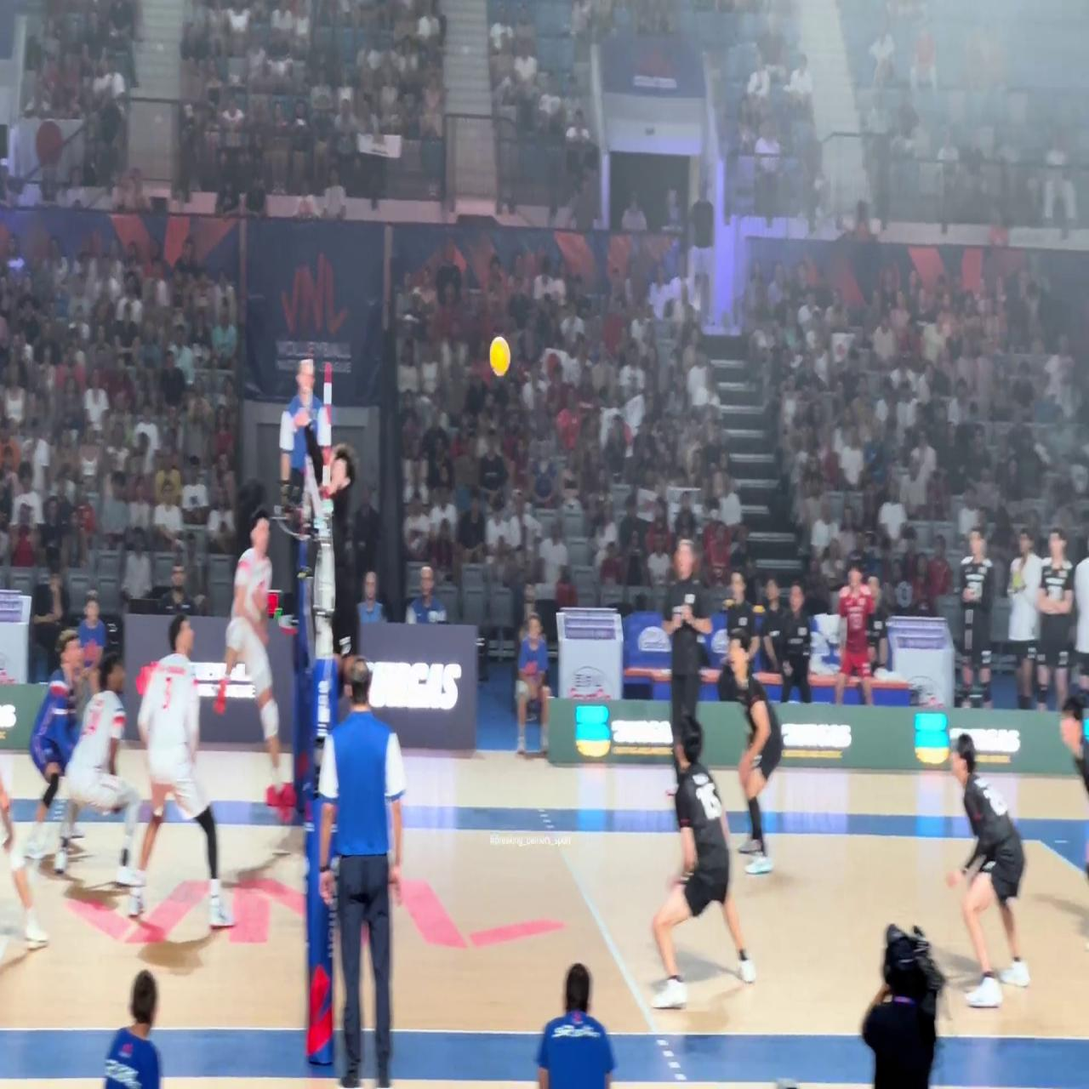ball: (489, 336, 511, 378)
